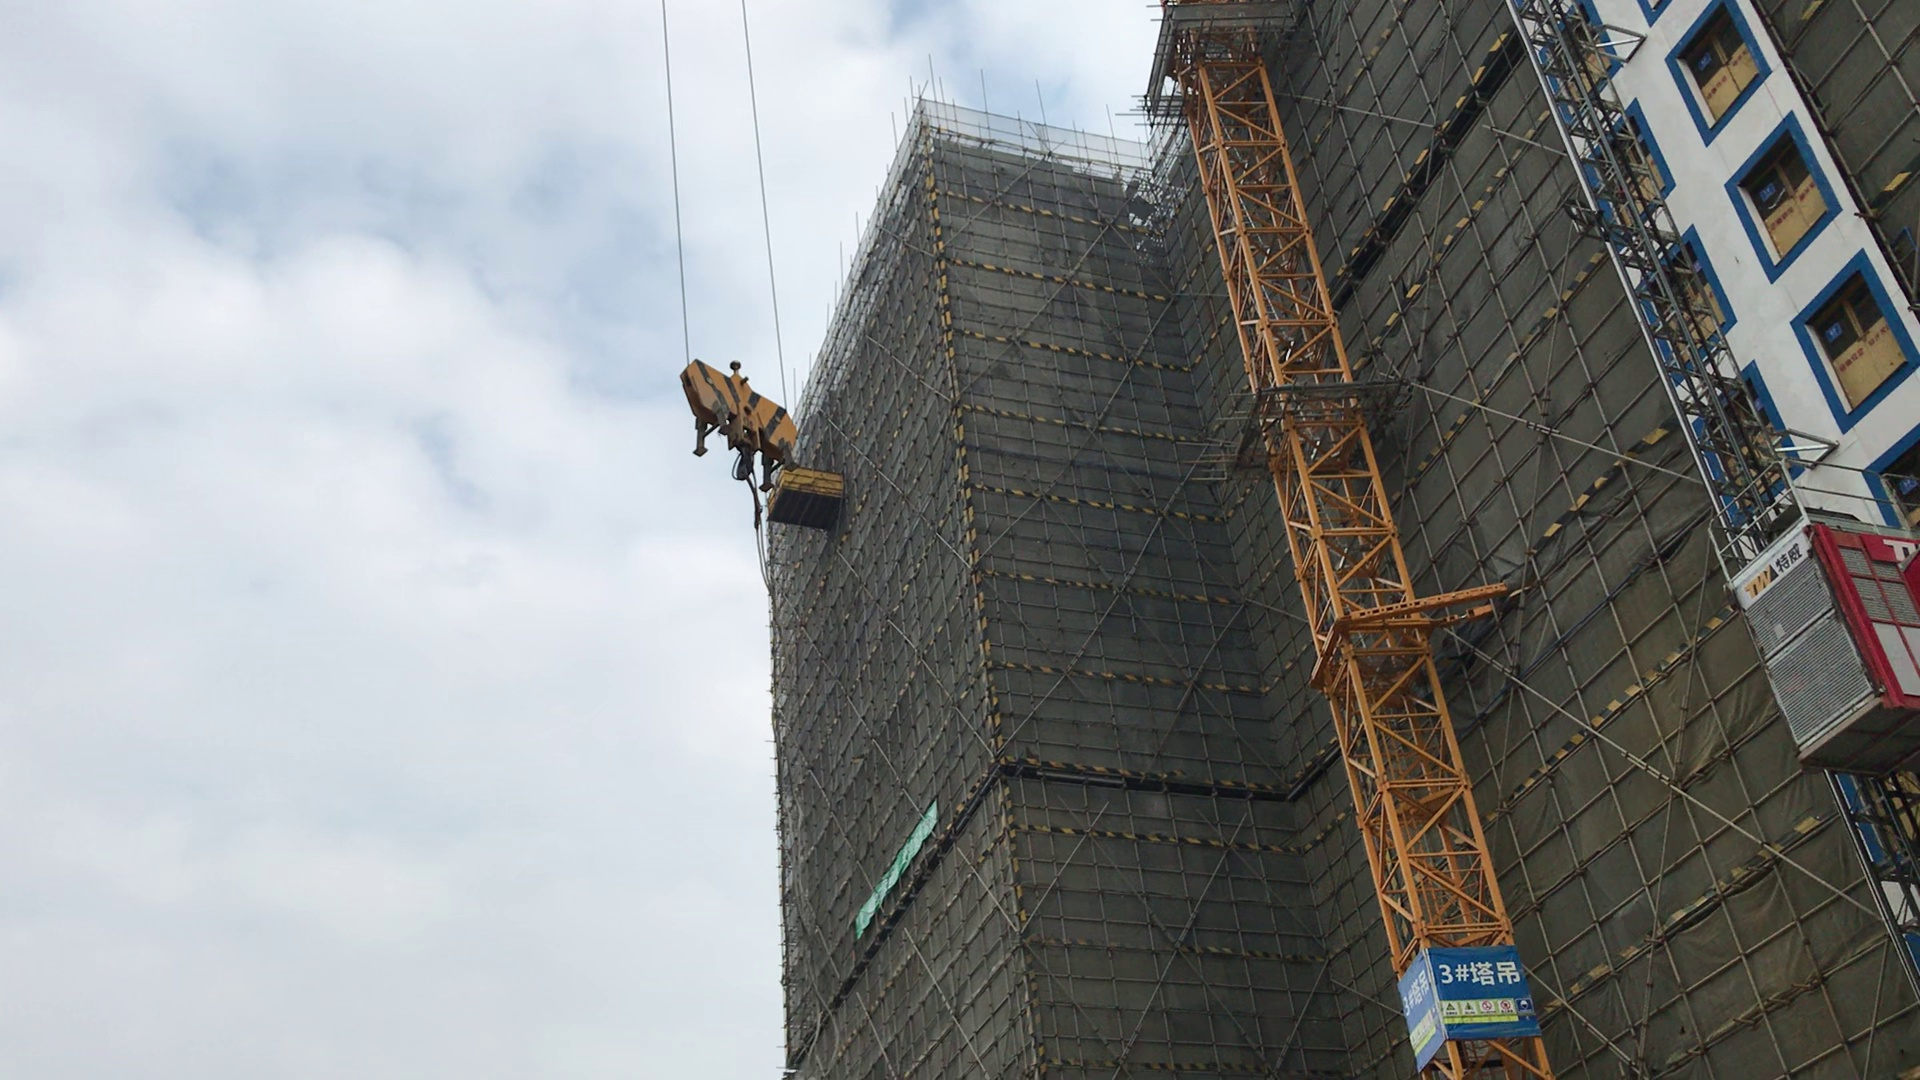hook: (673, 345, 828, 524)
slogan: (814, 804, 961, 945)
